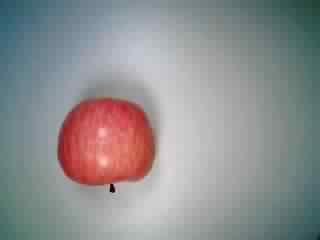apple: (54, 93, 159, 195)
